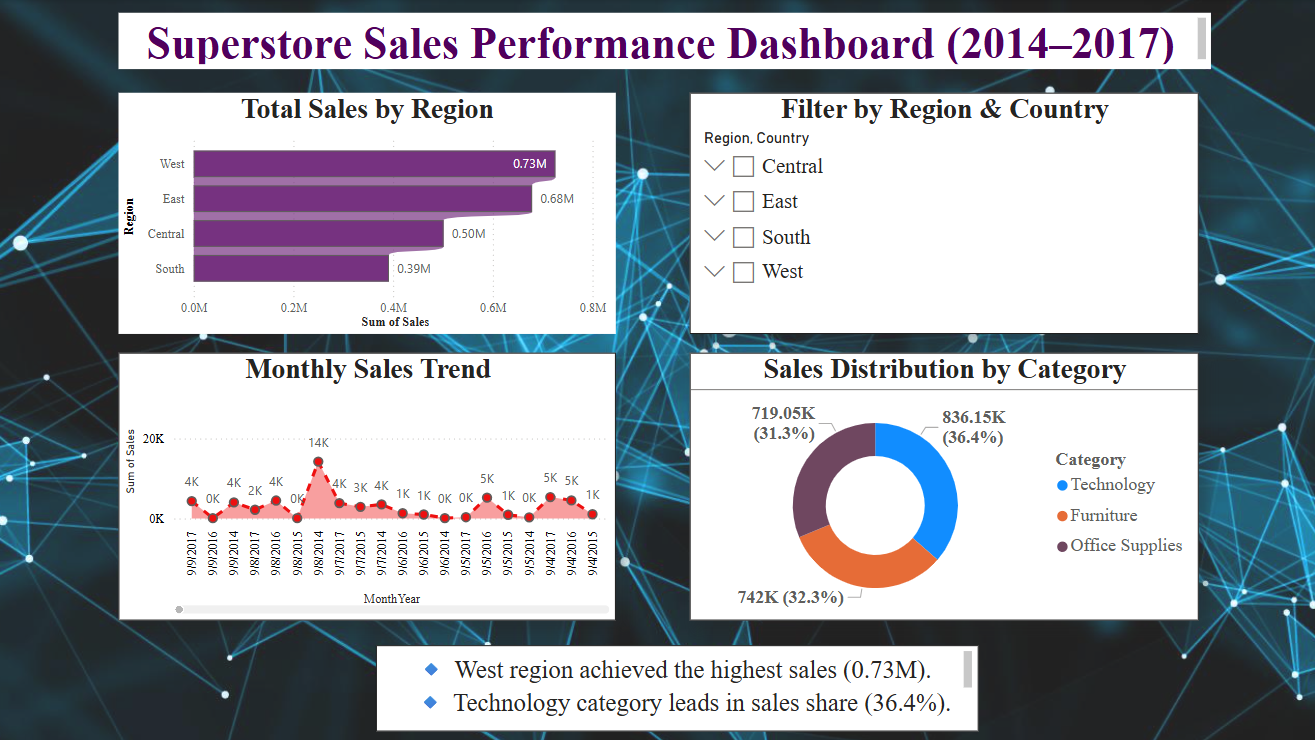

This screenshot's page, from the dashboard's own definition file:
{"tool":"powerbi","page":{"name":"Page 1","canvas":[1280,720],"ordinal":0},"visuals":[{"type":"lineChart","title":"Monthly Sales Trend","fields":{"Category":["Sample - Superstore.MonthYear"],"Y":["Sum(Sample - Superstore.Sales)"]},"box":[118.2,341.4,480.2,258.2],"z":0},{"type":"barChart","title":"Total Sales by Region","fields":{"Category":["Sample - Superstore.Region"],"Y":["Sum(Sample - Superstore.Sales)"]},"box":[118.2,90.5,480.2,232.8],"z":1000},{"type":"donutChart","title":"Sales Distribution by Category","fields":{"Category":["Sample - Superstore.Category"],"Y":["Sum(Sample - Superstore.Sales)"]},"box":[669.6,341.4,491,258.2],"z":2000},{"type":"slicer","title":"Filter by Region & Country","fields":{"Values":["Sample - Superstore.Region","Sample - Superstore.Country"]},"box":[669.6,90.5,491,232.8],"z":3000},{"type":"textbox","box":[118.2,13.3,1054.4,54.3],"z":4000},{"type":"textbox","box":[366.8,623.7,581.5,83.2],"z":4001}]}

Visuals, with their boxes in screenshot pixels (x1, y1, x2, y2), scaled from the page's 1280x720 canvas onto the 1315x740 screenshot:
"Monthly Sales Trend" lineChart: [x1=121, y1=351, x2=615, y2=616]
"Total Sales by Region" barChart: [x1=121, y1=93, x2=615, y2=332]
"Sales Distribution by Category" donutChart: [x1=688, y1=351, x2=1192, y2=616]
"Filter by Region & Country" slicer: [x1=688, y1=93, x2=1192, y2=332]
textbox: [x1=121, y1=14, x2=1205, y2=69]
textbox: [x1=377, y1=641, x2=974, y2=727]
